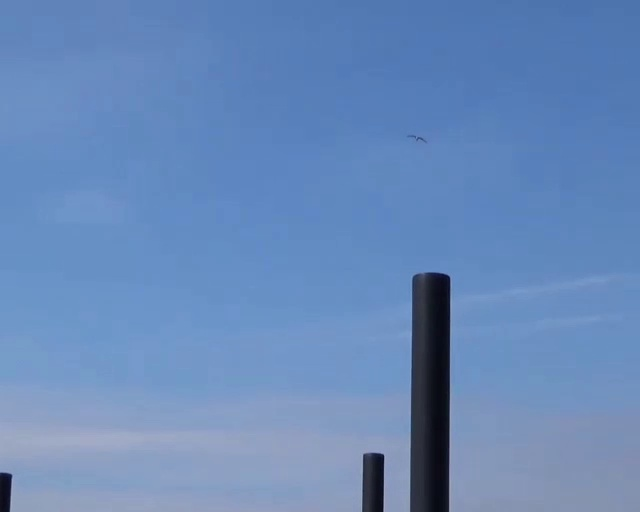BIRD: (406, 133, 428, 142)
